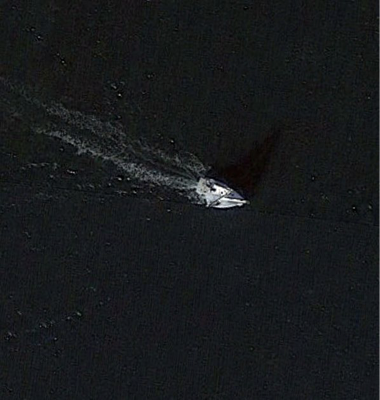boat: (192, 174, 251, 211)
